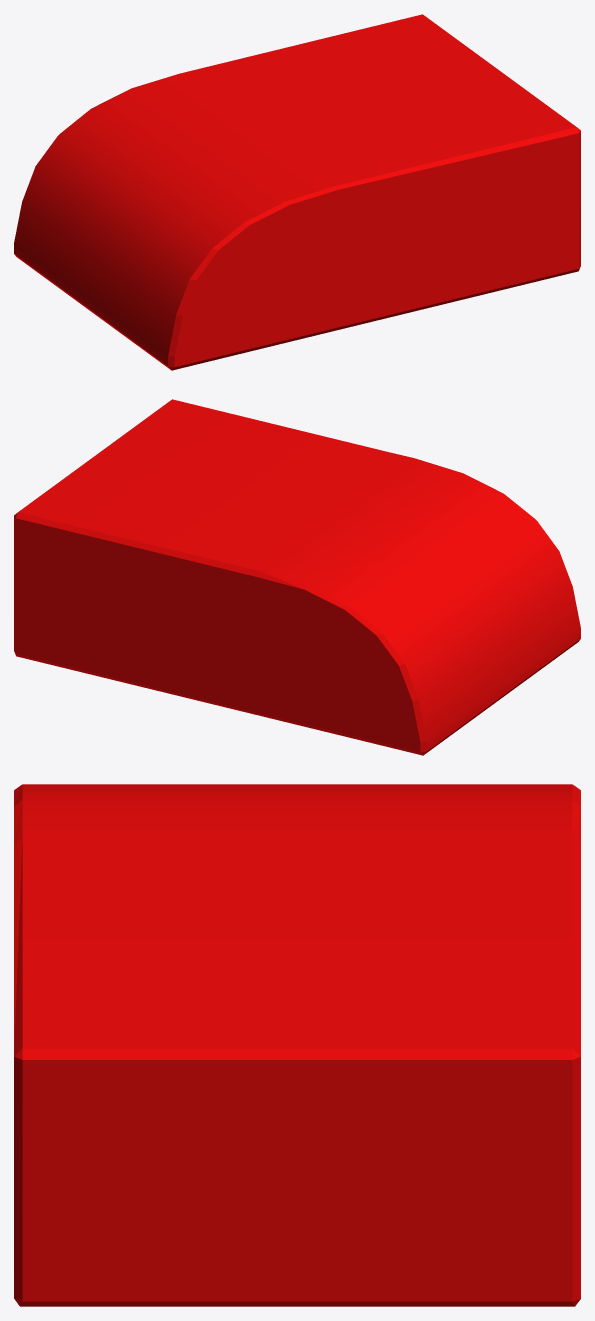
File: Part_Car_2X2_simple.FBX
3 views of the same model, one above another, from view 1: azimuth 30°, elevation 25°; view 2: azimuth 150°, elevation 25°; view 3: azimuth 270°, elevation 25° (orthographic). The views are drawn at different scales.
Parts seen in each view (by area): view 1: Part_Car_2X2_simple; view 2: Part_Car_2X2_simple; view 3: Part_Car_2X2_simple.
Part boxes in pixels (bbox=[...]): Part_Car_2X2_simple: bbox=[14, 14, 580, 370]; Part_Car_2X2_simple: bbox=[14, 399, 580, 755]; Part_Car_2X2_simple: bbox=[14, 784, 580, 1306].
Size of the model in its own units: 300 by 200 by 100.
